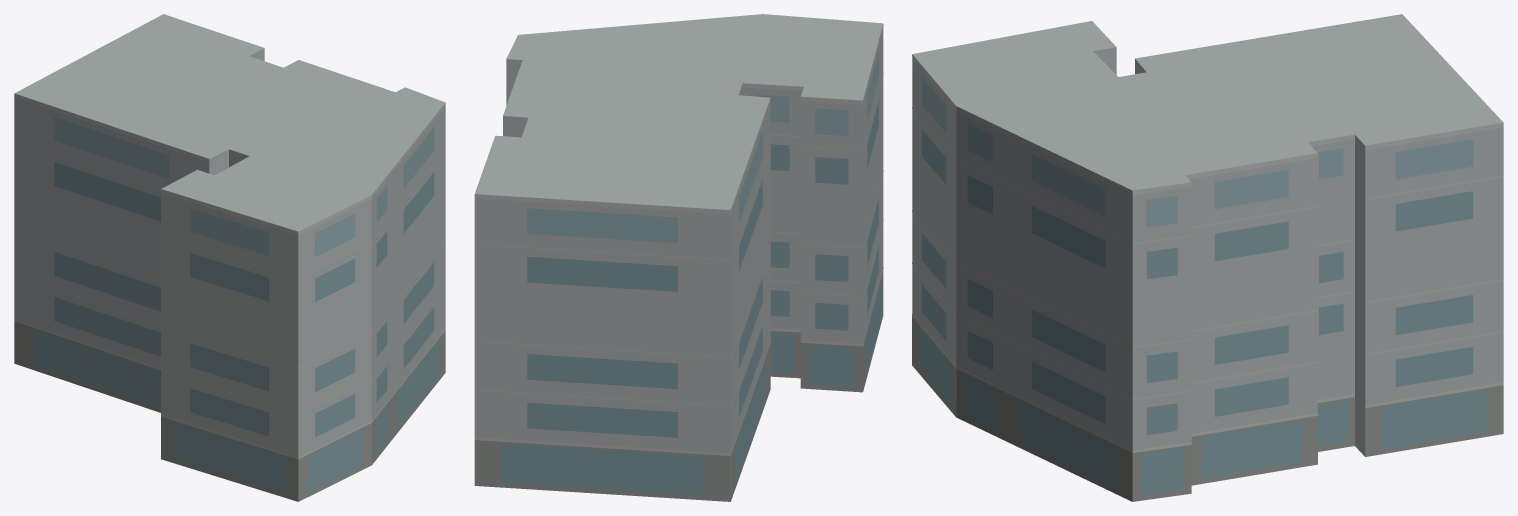
File: survey-upis-32644884.glb
3 renders of one model, left to right at view 1: azimuth 30°, elevation 25°; view 2: azimuth 150°, elevation 25°; view 3: azimuth 270°, elevation 25°, orthographic. The views are drawn at different scales.
Parts seen in each view (by area): view 1: survey-upis-32644884.tmp; view 2: survey-upis-32644884.tmp; view 3: survey-upis-32644884.tmp.
Part boxes in pixels (<box>): survey-upis-32644884.tmp: <box>14,14,445,501</box>; survey-upis-32644884.tmp: <box>474,14,883,501</box>; survey-upis-32644884.tmp: <box>912,14,1503,501</box>.
Size of the model in its own units: 20.45 by 16.8 by 28.95.
